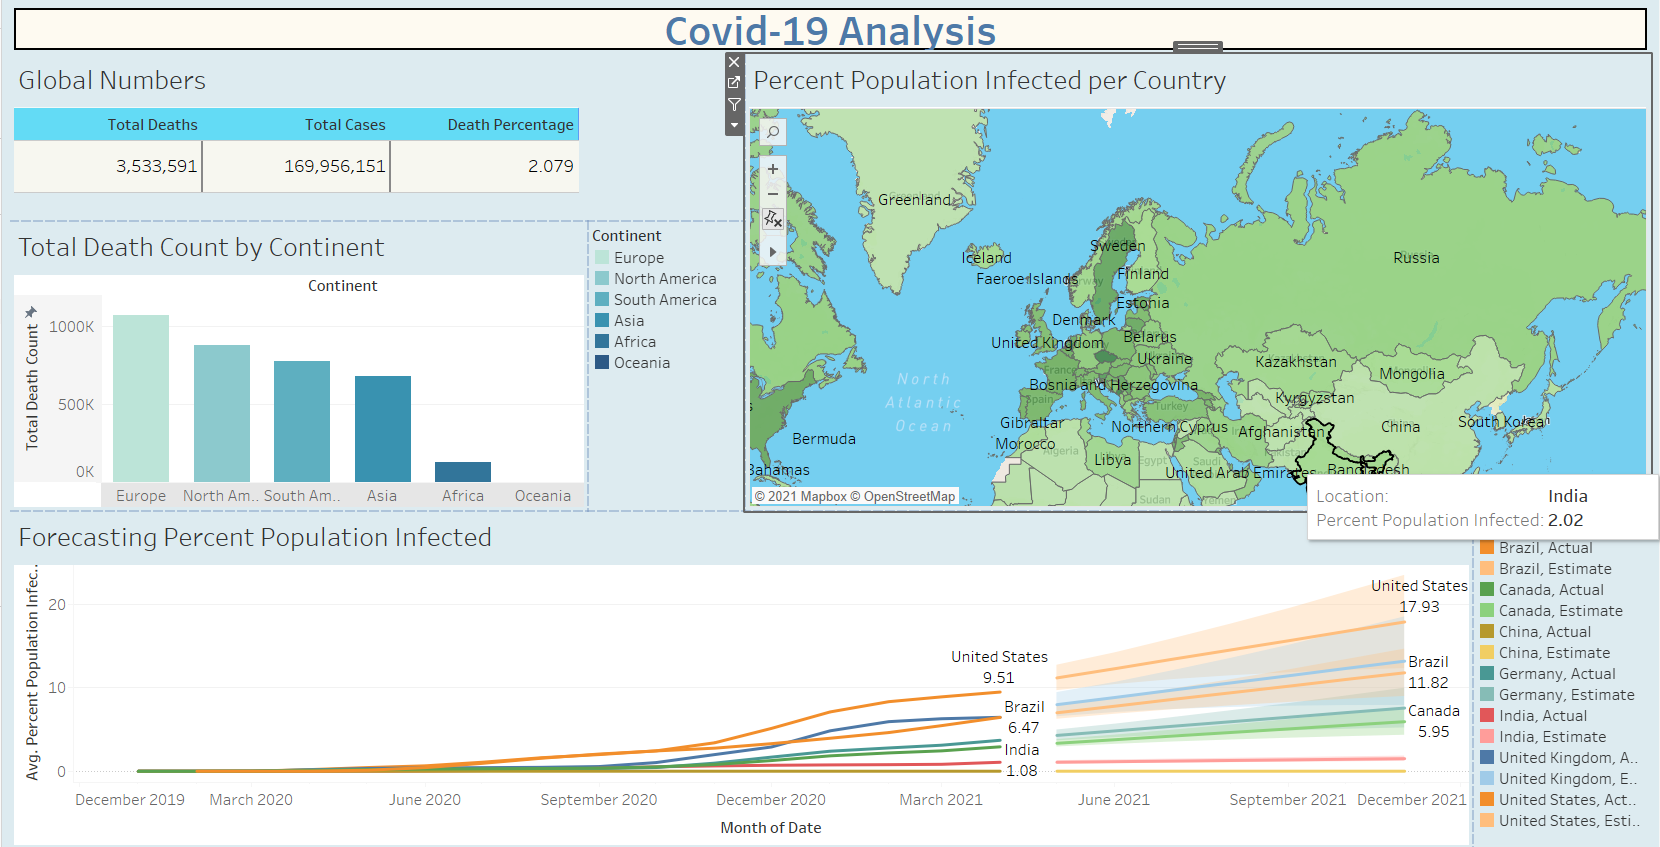

This screenshot's page, from the dashboard's own definition file:
{"tool":"tableau","page":{"name":"Dashboard 1","canvas":[1000,1000],"units":"permille","ordinal":0},"visuals":[{"type":"worksheet","box":[0,0,1000,1000]},{"type":"worksheet","param":"vert","box":[4.8,9.3,990.3,981.4]},{"type":"worksheet","box":[4.8,9.3,990.3,68.5]},{"type":"worksheet","param":"horz","box":[4.8,77.8,990.3,912.9]},{"type":"worksheet","box":[4.8,77.8,990.3,912.9]},{"type":"worksheet","title":"Sheet 1","mark":"Automatic","box":[4.8,77.8,443.4,175]},{"type":"worksheet","title":"Sheet 3","mark":"Automatic","box":[448.3,77.8,546.9,525]},{"type":"worksheet","title":"Sheet 2","mark":"Automatic","rows":["TotalDeathCount"],"cols":["location"],"box":[4.8,252.8,349.1,350]},{"type":"worksheet","title":"Sheet 2","mark":"Automatic","rows":["TotalDeathCount"],"cols":["location"],"param":"[federated.03opbng1c6f51x1b1jonm1hqnq5w].[none:location:nk]","box":[353.9,252.8,94.4,350]},{"type":"worksheet","title":"Sheet 4","mark":"Automatic","rows":["PercentPopulationInfected"],"cols":["date"],"box":[4.8,602.9,883,387.9]},{"type":"worksheet","title":"Sheet 4","mark":"Automatic","rows":["PercentPopulationInfected"],"cols":["date"],"param":"[federated.0tpsrvj1gmv2g01fzywug0kmc88n].[none:Location:nk]\n[federated.0tpsrvj1g","box":[887.9,602.9,107.3,387.9]}]}

Visuals, with their boxes on the dashboard's canvas, which has no fixed pixel size, in thousandths of its width and height (x1, y1, x2, y2). These are canvas units, not pixel positions in the 1660x847 screenshot, which may show the page scaled, cropped or inside an application window:
worksheet: [0, 0, 1000, 1000]
worksheet: [5, 9, 995, 991]
worksheet: [5, 9, 995, 78]
worksheet: [5, 78, 995, 991]
worksheet: [5, 78, 995, 991]
"Sheet 1" worksheet: [5, 78, 448, 253]
"Sheet 3" worksheet: [448, 78, 995, 603]
"Sheet 2" worksheet: [5, 253, 354, 603]
"Sheet 2" worksheet: [354, 253, 448, 603]
"Sheet 4" worksheet: [5, 603, 888, 991]
"Sheet 4" worksheet: [888, 603, 995, 991]
